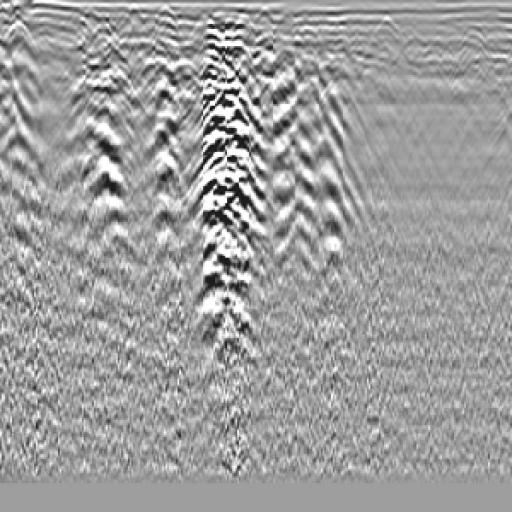metalic: (138, 34, 234, 206)
